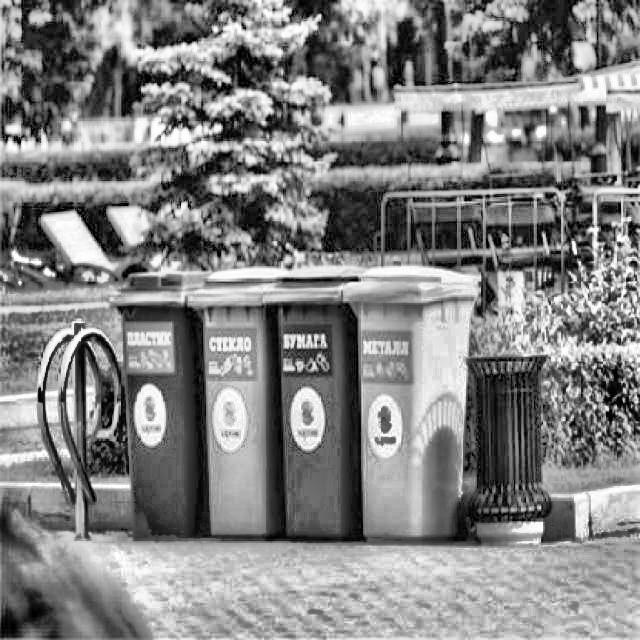Dustbin: (358, 256, 486, 550), (106, 262, 206, 541), (274, 258, 357, 550), (206, 262, 282, 548)
